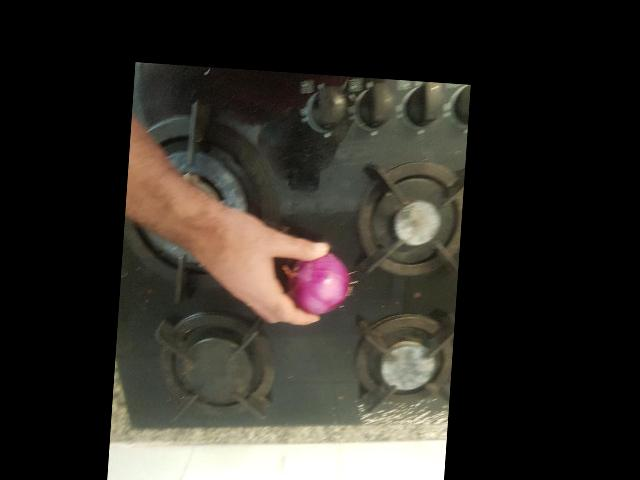onion: (324, 363, 386, 413)
